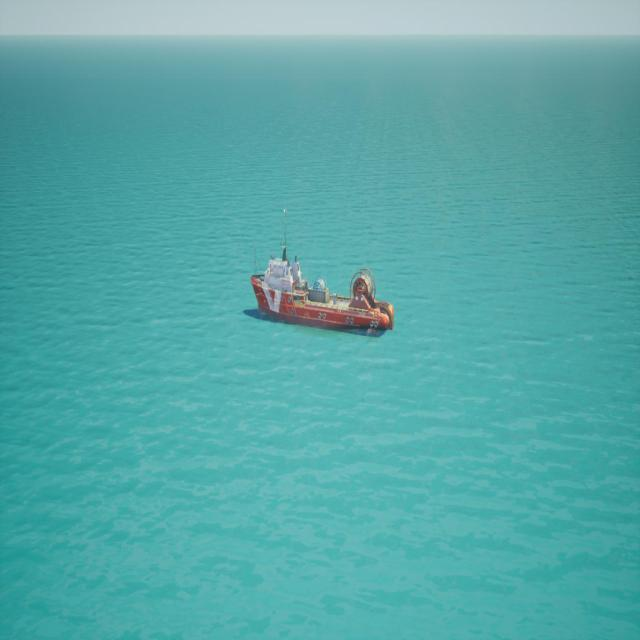tug boat: (246, 206, 395, 342)
